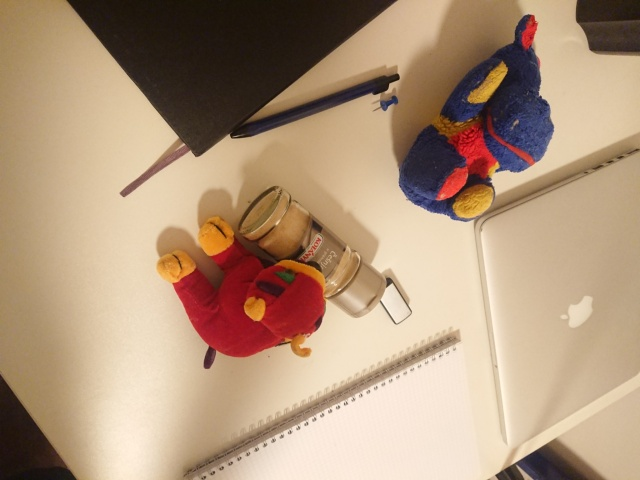Kotanyi Garlic Granules 70g: (235, 182, 389, 320)
